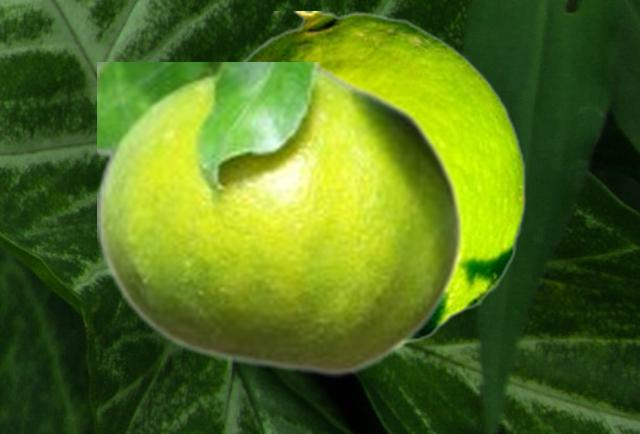dalandan: (97, 62, 464, 376), (239, 11, 525, 350)
